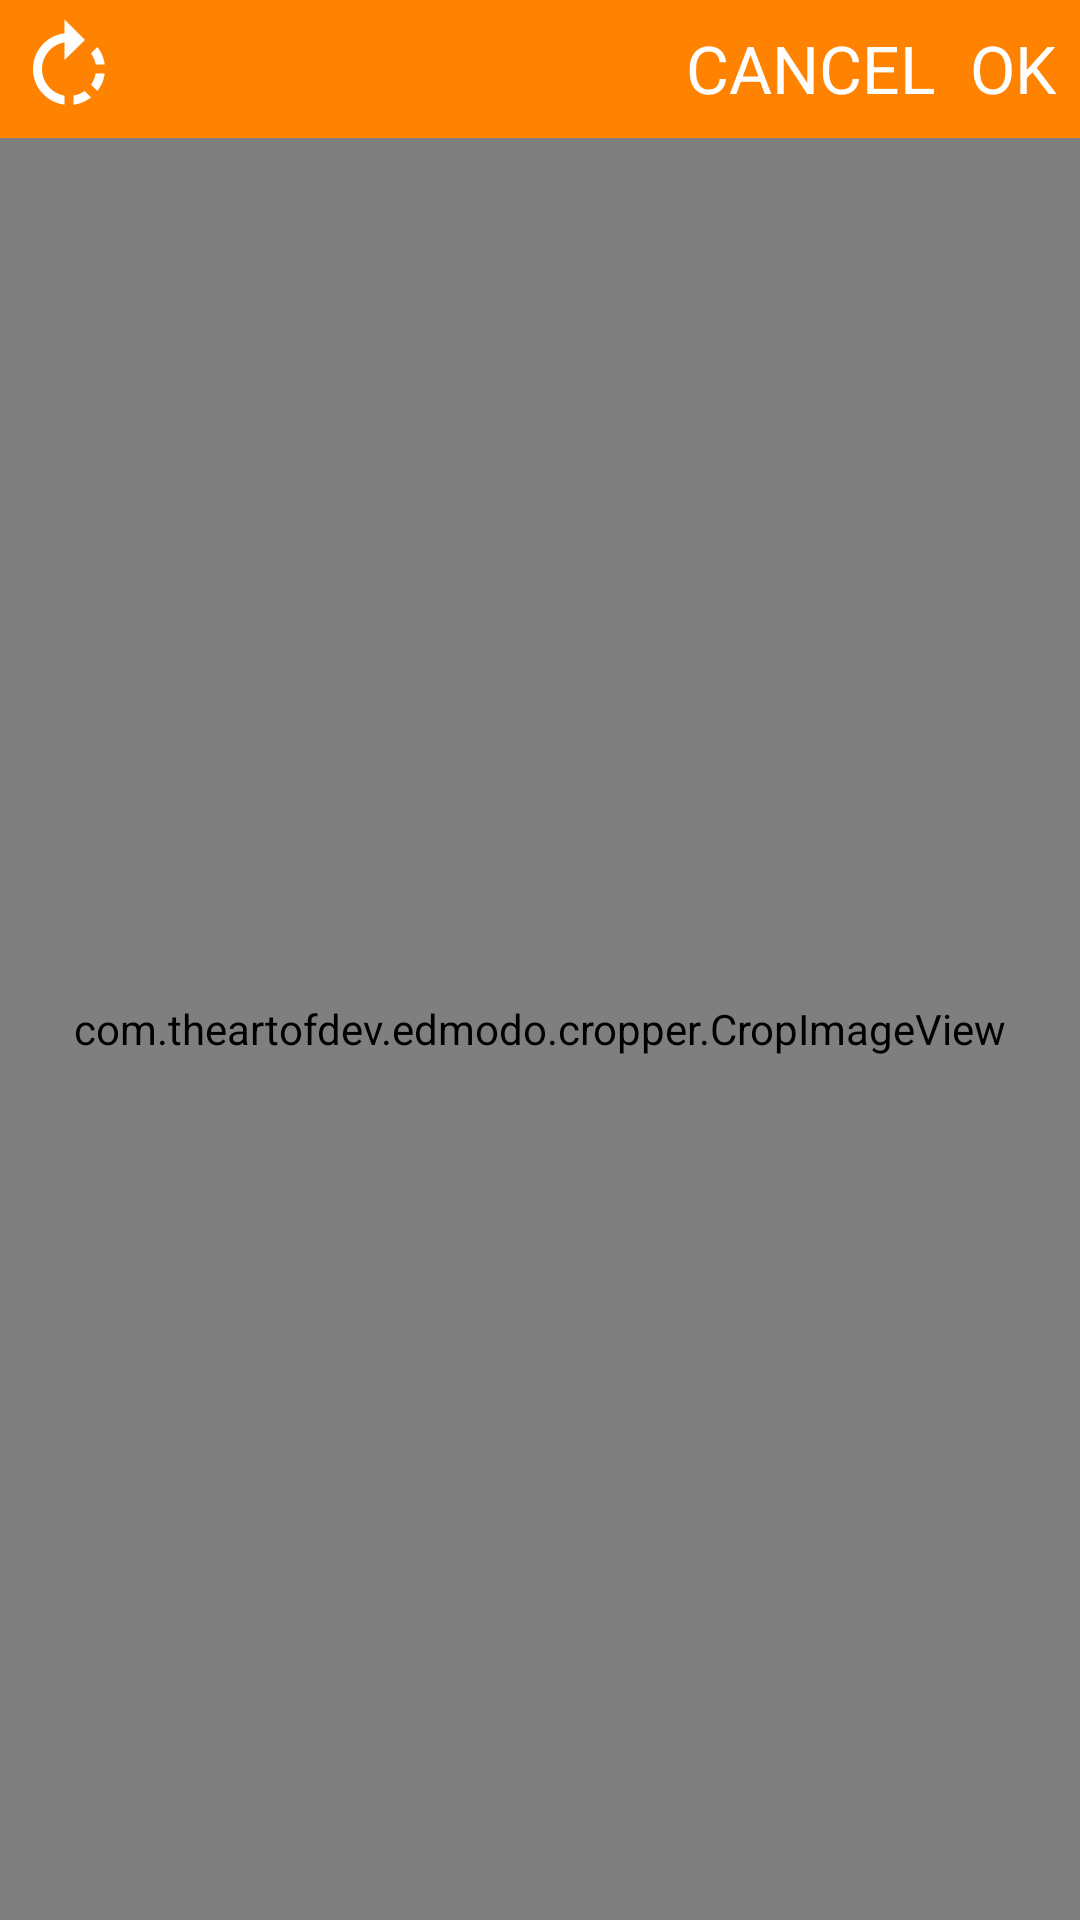

Where to tap for icons on this 1080x1920 app screen, as point (x, y):
rotate: point (69, 62)
